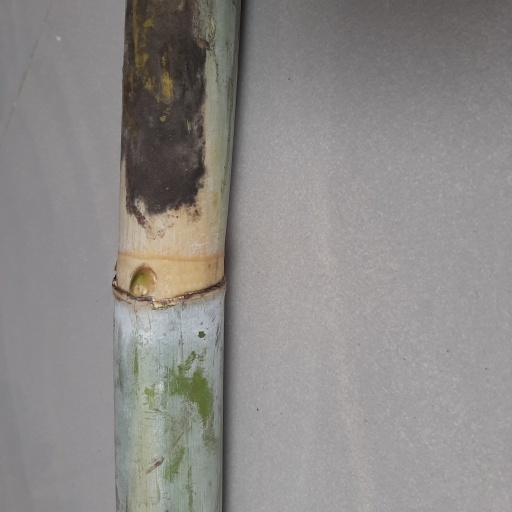Bud: (130, 263, 158, 298)
